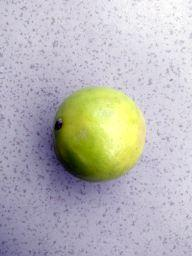lemon: (49, 86, 150, 187)
